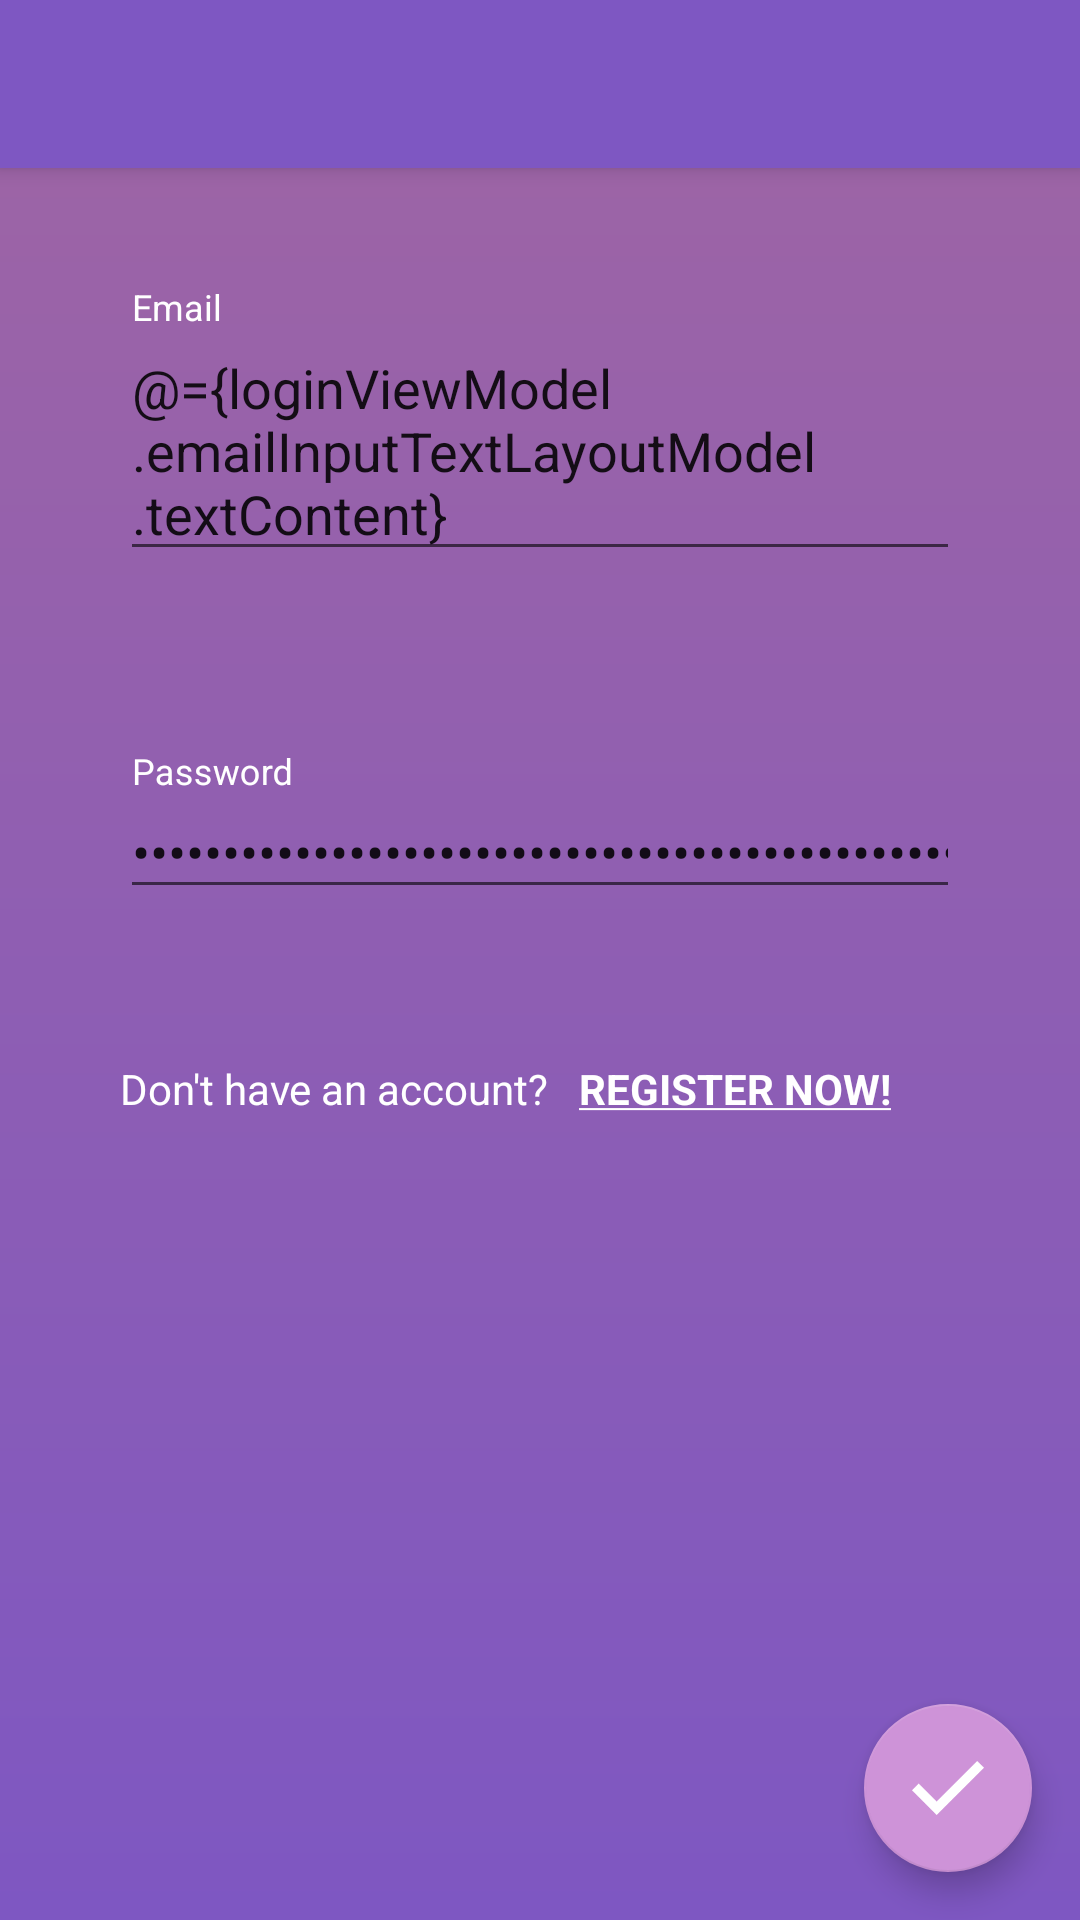

Named icons in this screenshot (1080w x 1920h) and their centers, point (x, y):
tick: point (948, 1788)
